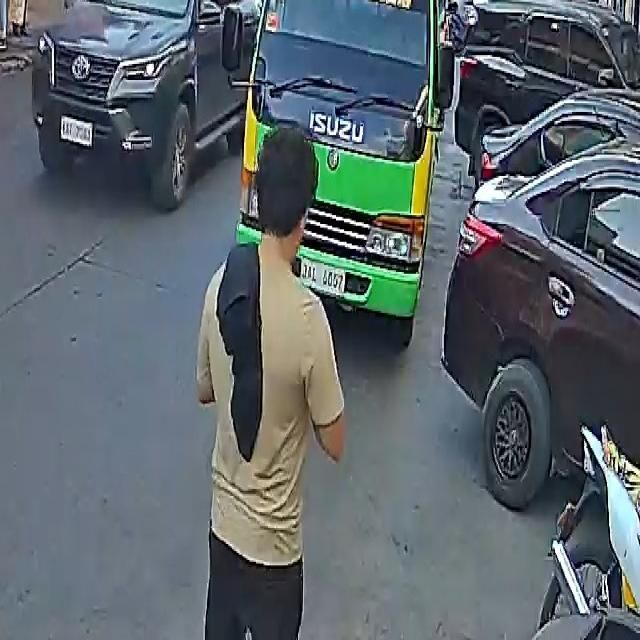car: (444, 99, 640, 521), (30, 0, 258, 210), (450, 0, 640, 174)
